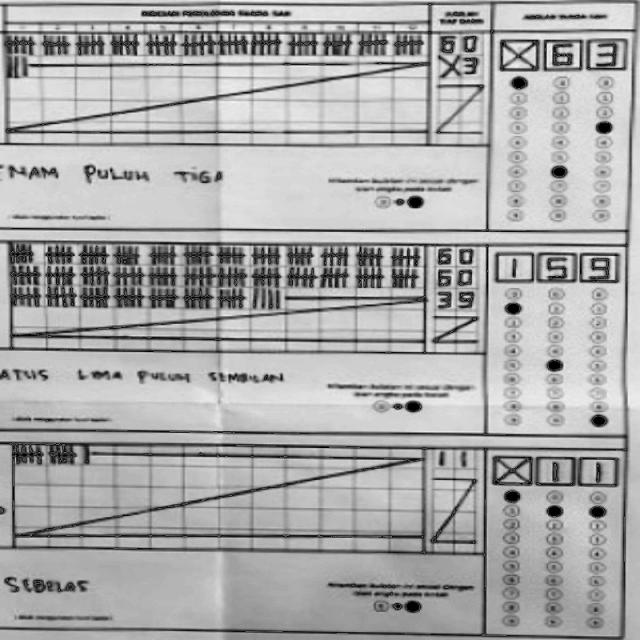Suara: (495, 33, 631, 76), (485, 243, 623, 285), (483, 449, 622, 490)
